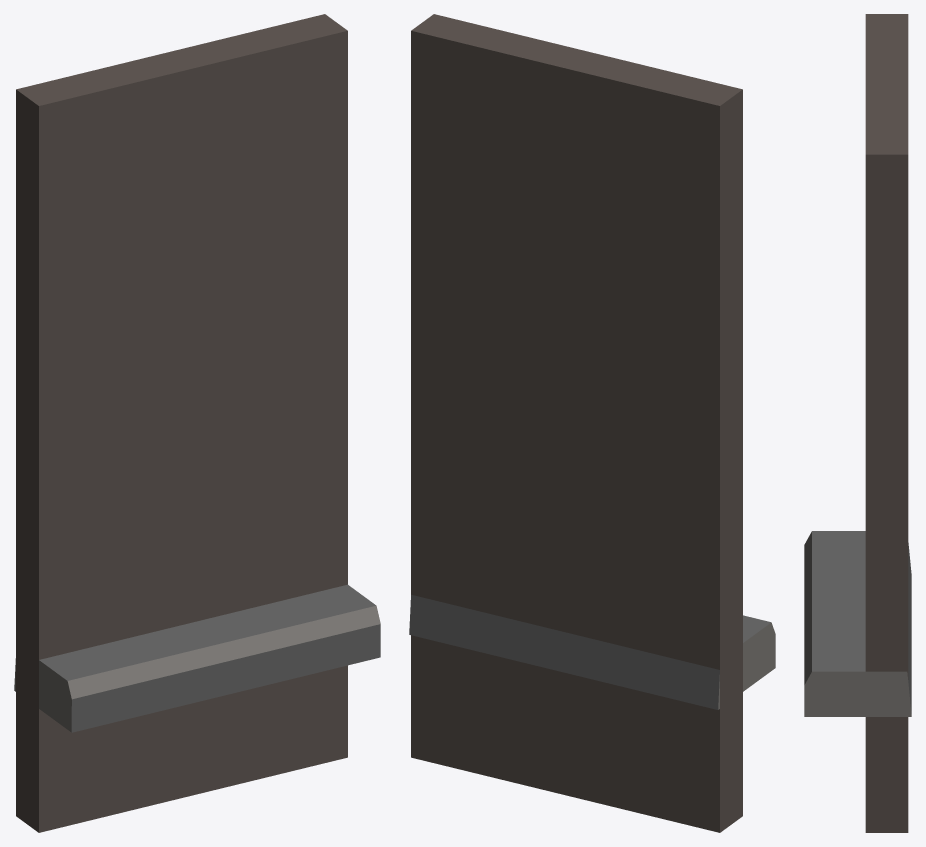
The model's file is MCastle_CropWalls_03.FBX.
3 renders of one model, left to right at view 1: azimuth 30°, elevation 25°; view 2: azimuth 150°, elevation 25°; view 3: azimuth 270°, elevation 25°, orthographic. The views are drawn at different scales.
Parts seen in each view (by area): view 1: MCastle_CropWalls_03; view 2: MCastle_CropWalls_03; view 3: MCastle_CropWalls_03.
Part boxes in pixels (box(x1,y1,x2,y2)): MCastle_CropWalls_03: box(14, 14, 380, 832); MCastle_CropWalls_03: box(409, 14, 775, 832); MCastle_CropWalls_03: box(804, 14, 911, 832).
Bounding box in the file's own units: 2 × 4.5 × 0.6463.
